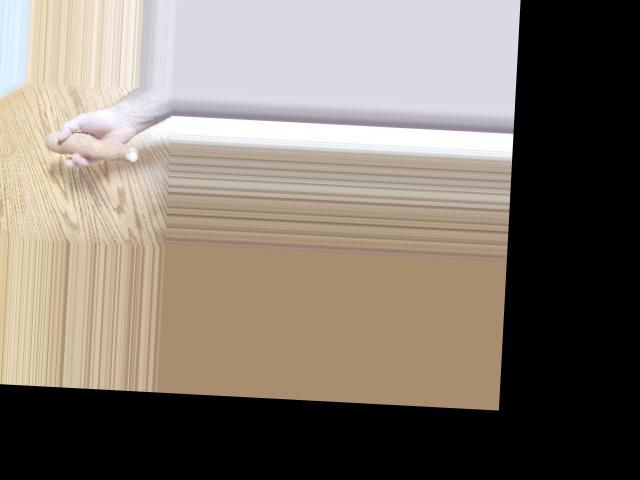sweet_potato: (49, 129, 131, 163)
